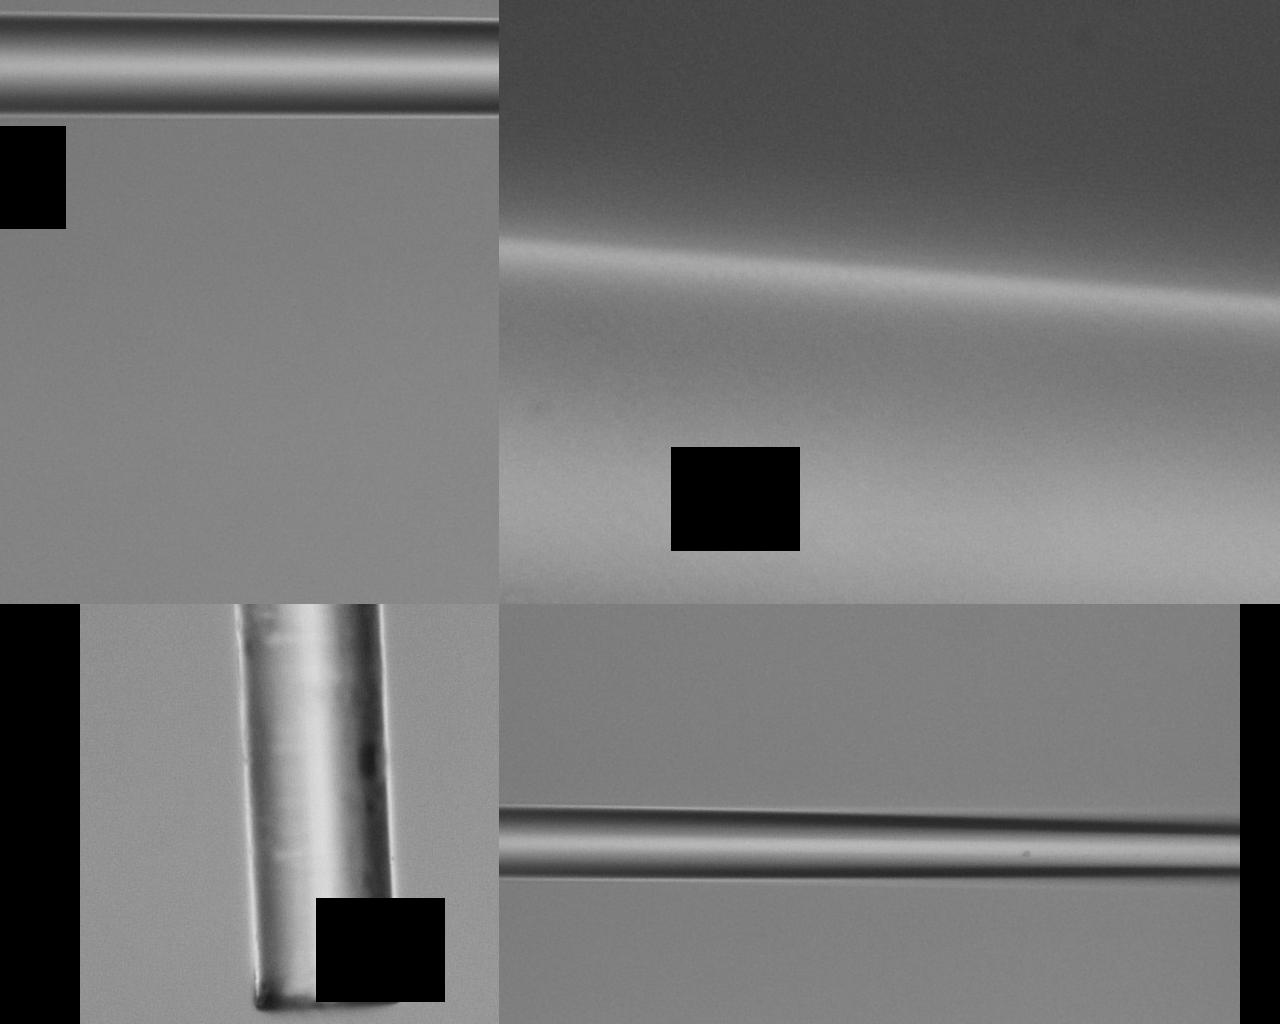fiber: (490, 157, 1280, 430), (591, 770, 1280, 969), (0, 583, 43, 706)
